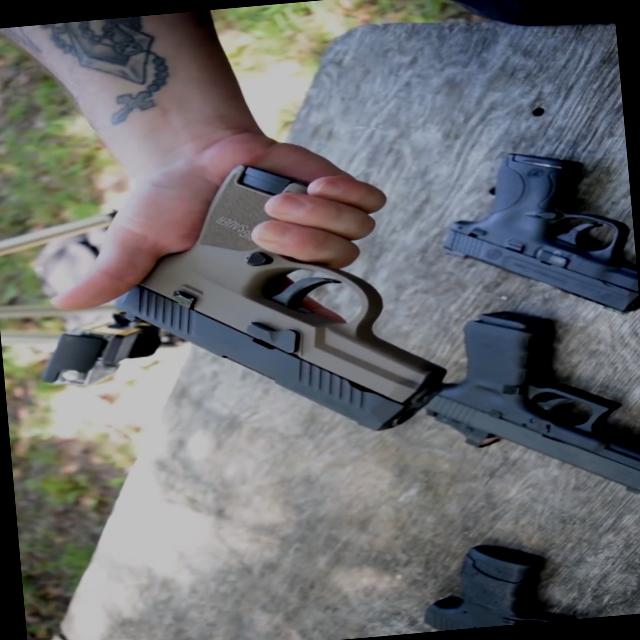handgun: (94, 154, 427, 462), (387, 282, 639, 514), (425, 123, 639, 342), (411, 518, 574, 632)
